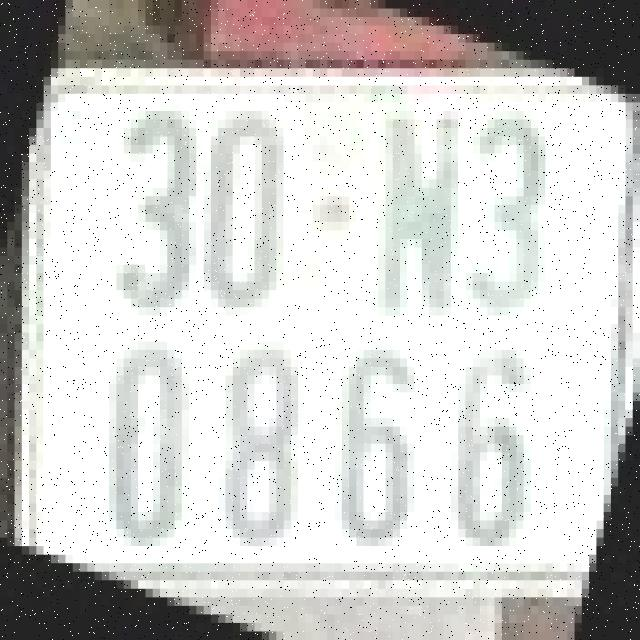0: (204, 106, 284, 312), (109, 341, 189, 546)
3: (116, 106, 196, 312), (473, 106, 545, 312)
6: (454, 341, 534, 546), (342, 345, 414, 542)
8: (226, 345, 298, 542)
N: (378, 111, 458, 316)
